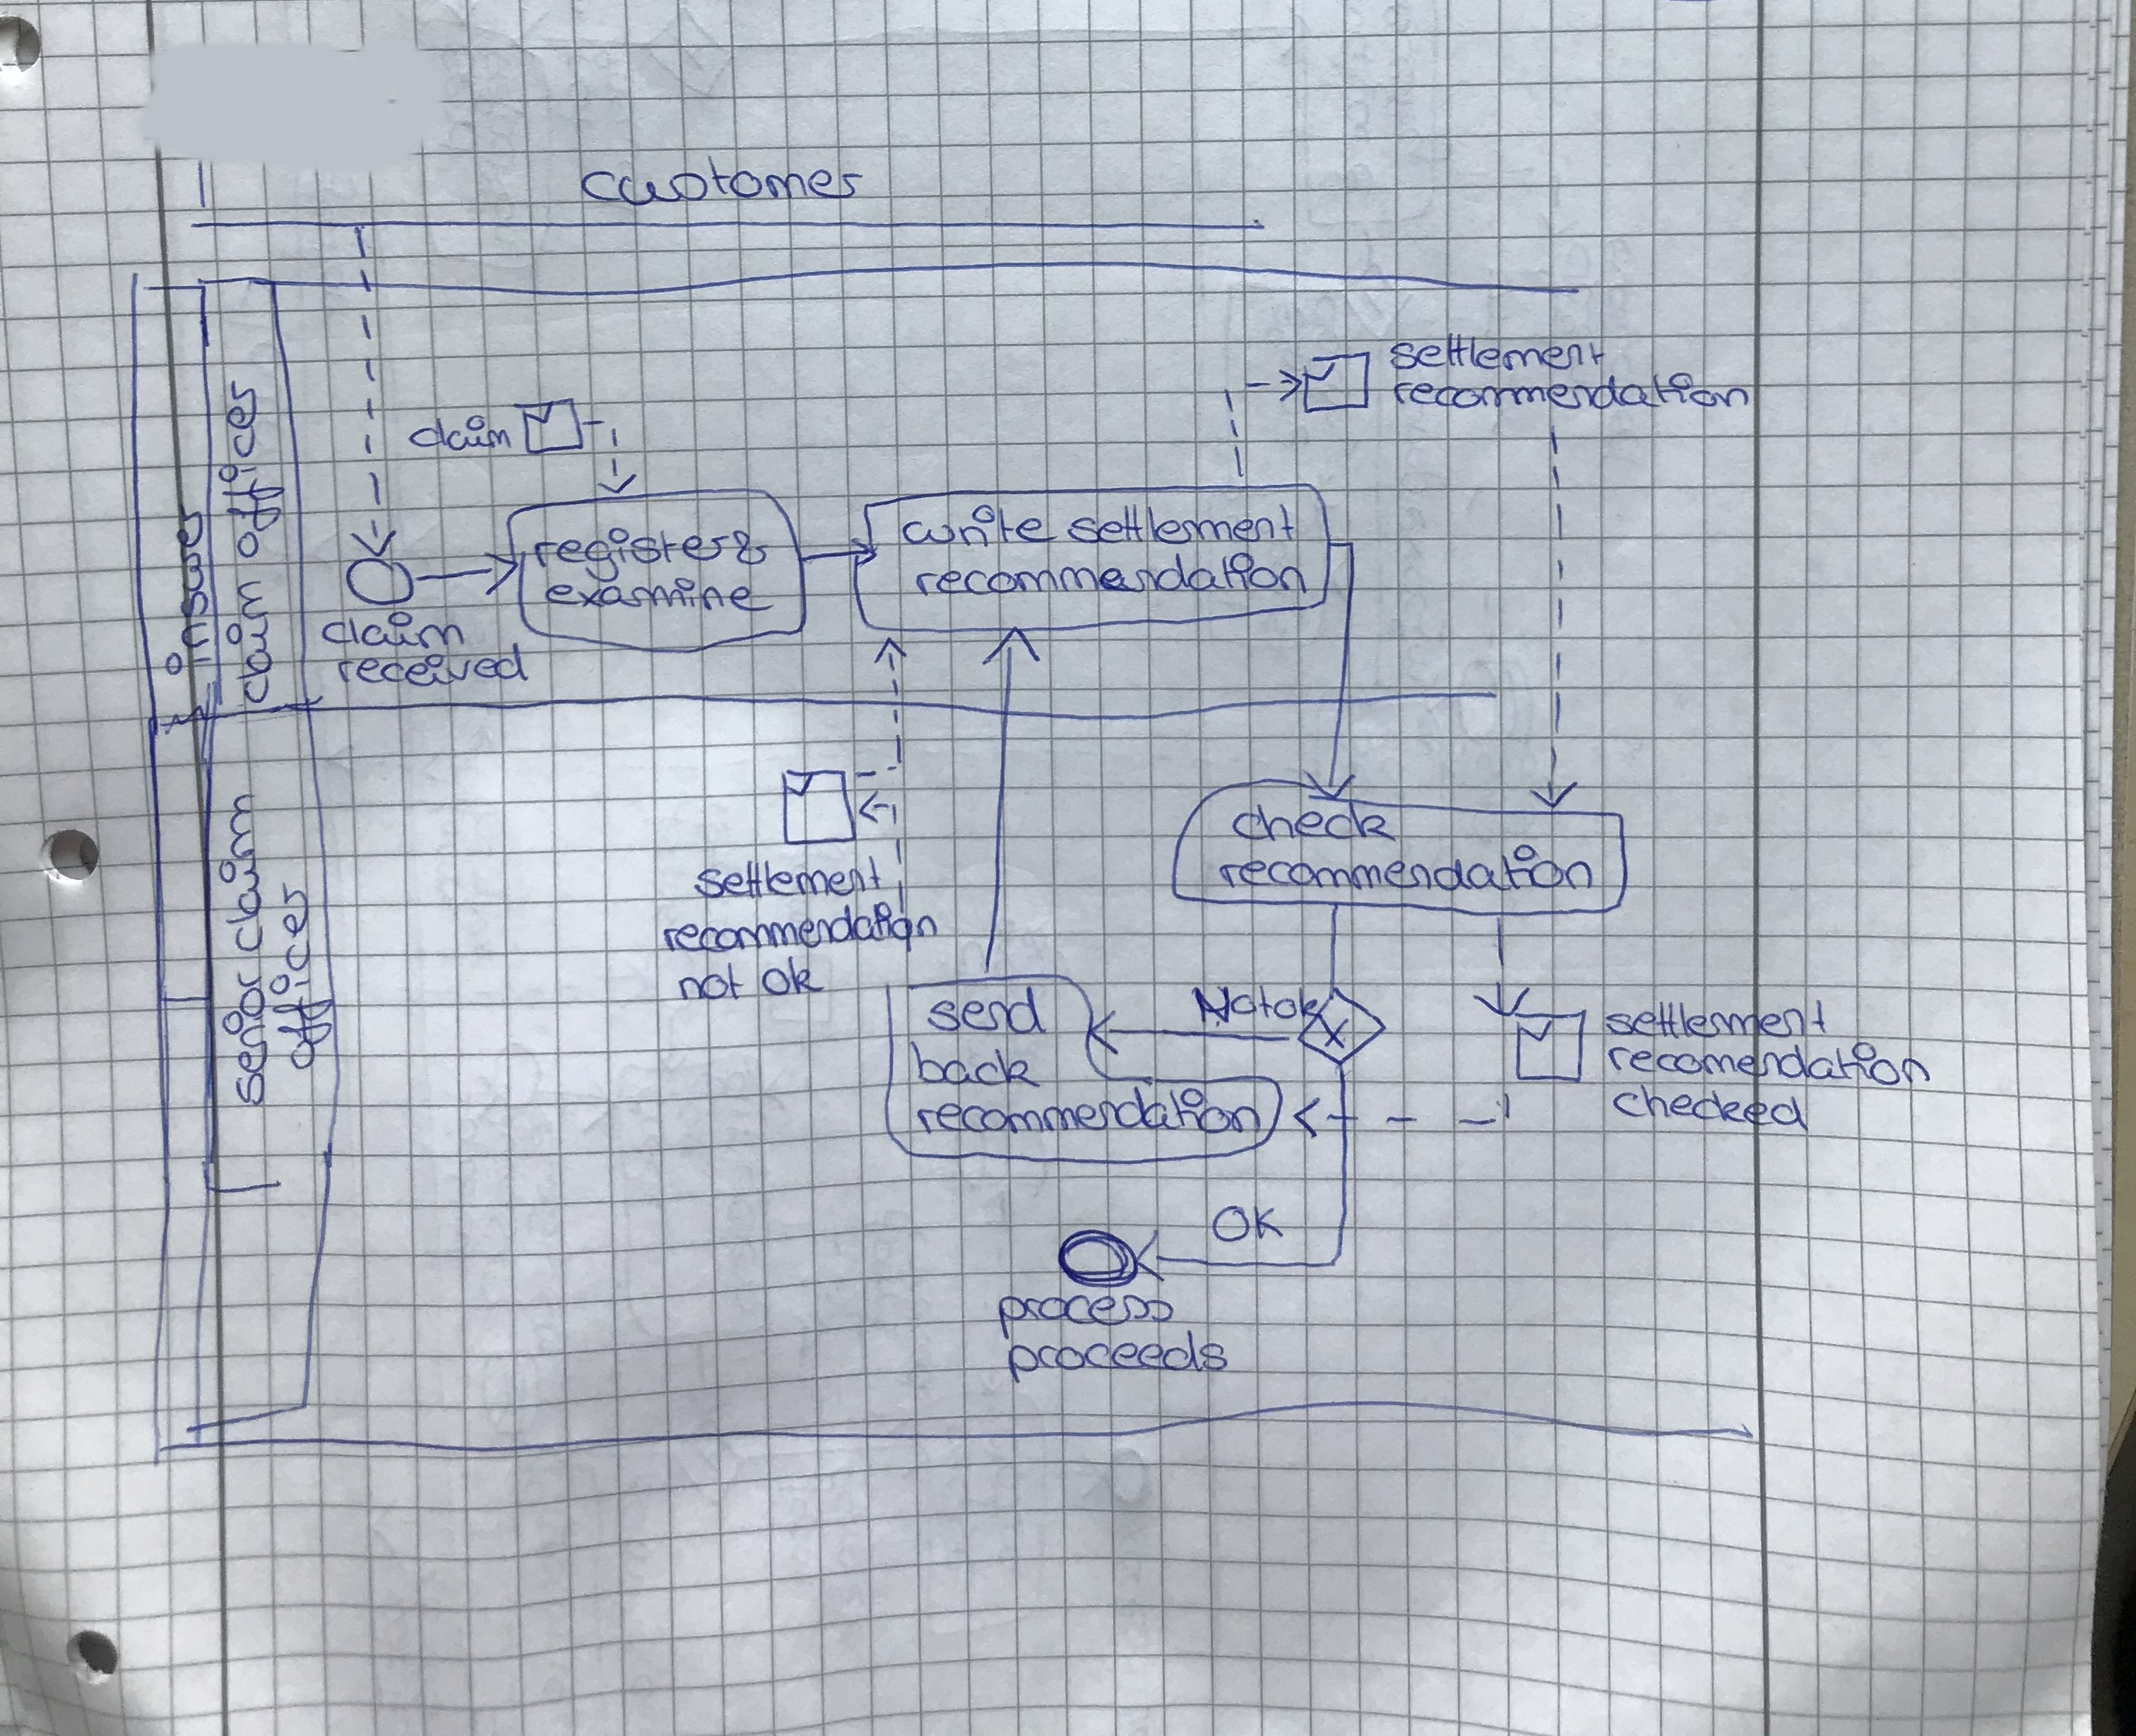&: (726, 523, 778, 572)
Notok: (1185, 978, 1330, 1033)
OK: (1206, 1199, 1289, 1249)
back: (903, 1035, 1047, 1095)
check: (1226, 795, 1405, 849)
checked: (1605, 1077, 1815, 1139)
claim: (213, 787, 273, 962), (220, 572, 280, 714), (315, 606, 471, 655), (404, 411, 517, 457)
customer: (570, 147, 871, 214)
examine: (540, 572, 781, 618)
insurer: (159, 496, 220, 682)
not: (673, 957, 751, 1010)
officer: (209, 372, 294, 565), (262, 875, 342, 1077)
ok: (755, 951, 832, 1004)
proceeds: (1002, 1323, 1236, 1392)
process: (992, 1288, 1181, 1346)
received: (331, 638, 537, 694)
recomendation: (1598, 1038, 1939, 1091)
recommendation: (907, 544, 1314, 602), (1211, 840, 1599, 900), (907, 1081, 1270, 1143), (655, 896, 946, 962), (1383, 367, 1757, 416)
register: (528, 523, 730, 590)
send: (921, 980, 1054, 1043)
senior: (216, 965, 275, 1114)
settlement: (1061, 498, 1302, 551), (1380, 326, 1612, 379), (687, 850, 889, 907), (1598, 994, 1833, 1042)
write: (894, 500, 1064, 553)
